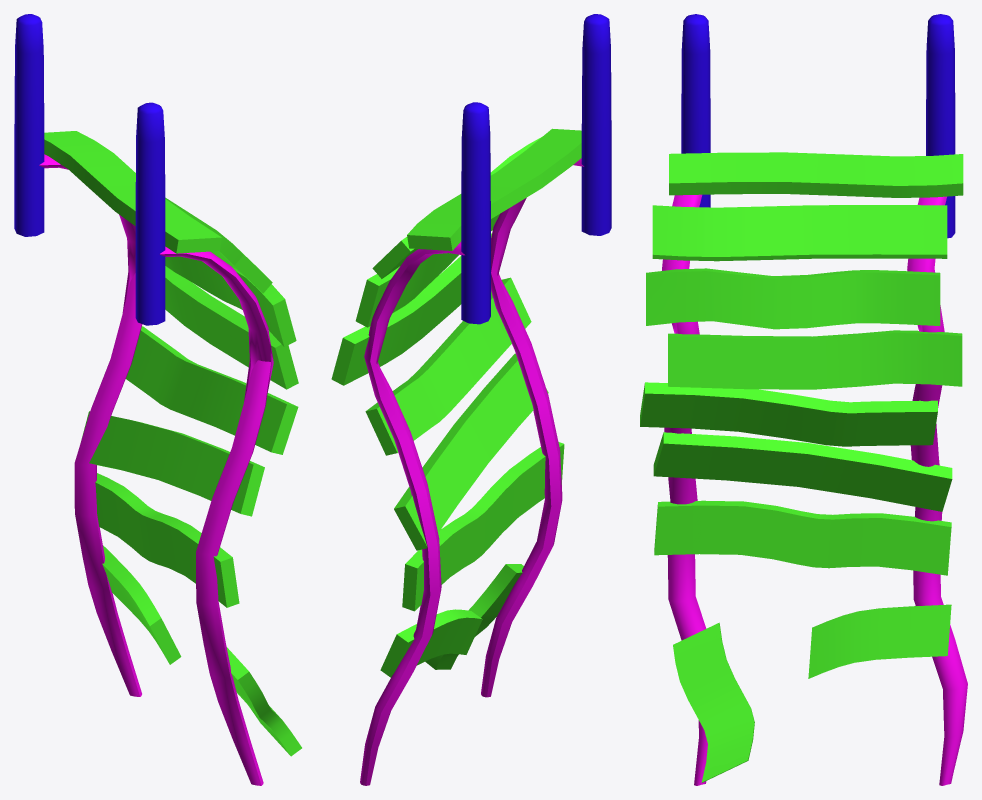
Rendered from Pont_HP.FBX.
The picture shows the model from 3 angles, left to right: view 1: azimuth 30°, elevation 25°; view 2: azimuth 150°, elevation 25°; view 3: azimuth 270°, elevation 25°; orthographic projection.
Visible parts, largest first — view 1: pont; view 2: pont; view 3: pont.
Boxes of the visible parts, x1,y1,x2,y2 form: pont: (14,14,301,785); pont: (331,14,611,785); pont: (640,14,967,785).
Bounding box in the file's own units: 133 × 536 × 223.
